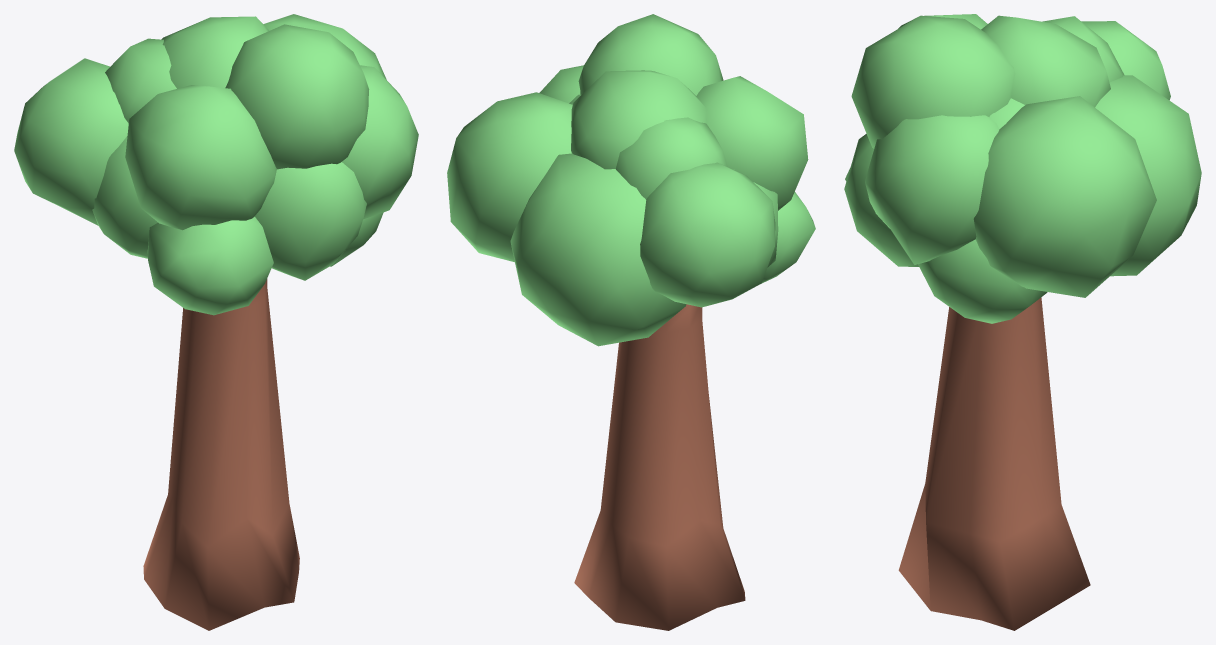
The model's file is treecone.fbx.
3 renders of one model, left to right at view 1: azimuth 30°, elevation 25°; view 2: azimuth 150°, elevation 25°; view 3: azimuth 270°, elevation 25°, orthographic. The views are drawn at different scales.
Parts seen in each view (by area): view 1: Cylinder.002; view 2: Cylinder.002; view 3: Cylinder.002.
Part boxes in pixels (left/top/right/bottom): Cylinder.002: left=14, top=14, right=418, bottom=630; Cylinder.002: left=447, top=14, right=815, bottom=630; Cylinder.002: left=844, top=14, right=1201, bottom=630.
Size of the model in its own units: 916 by 1483 by 810.
